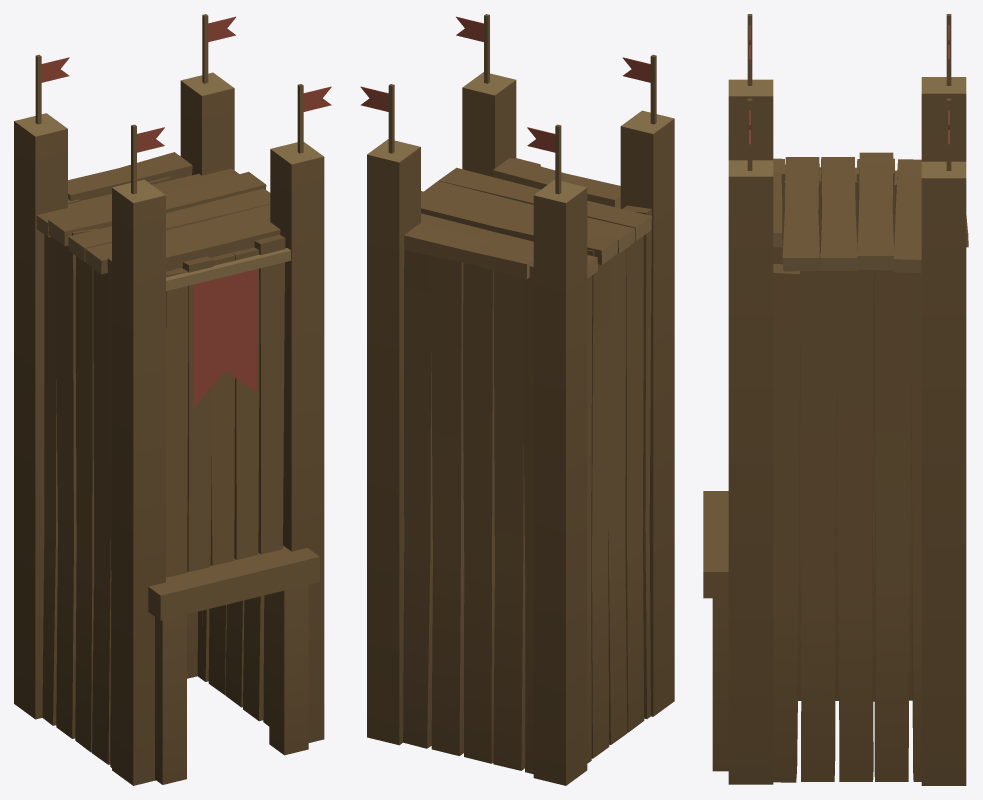
File: tower-0-1.glb
The picture shows the model from 3 angles, left to right: view 1: azimuth 30°, elevation 25°; view 2: azimuth 150°, elevation 25°; view 3: azimuth 270°, elevation 25°; orthographic projection. The views are drawn at different scales.
Visible parts, largest first — view 1: tower:0-1; view 2: tower:0-1; view 3: tower:0-1.
Boxes of the visible parts, x1=… form: tower:0-1: x1=14, y1=14, x2=331, y2=785; tower:0-1: x1=360, y1=14, x2=674, y2=785; tower:0-1: x1=703, y1=14, x2=968, y2=785.
Bounding box in the file's own units: 1.1 × 3.2 × 1.14.
